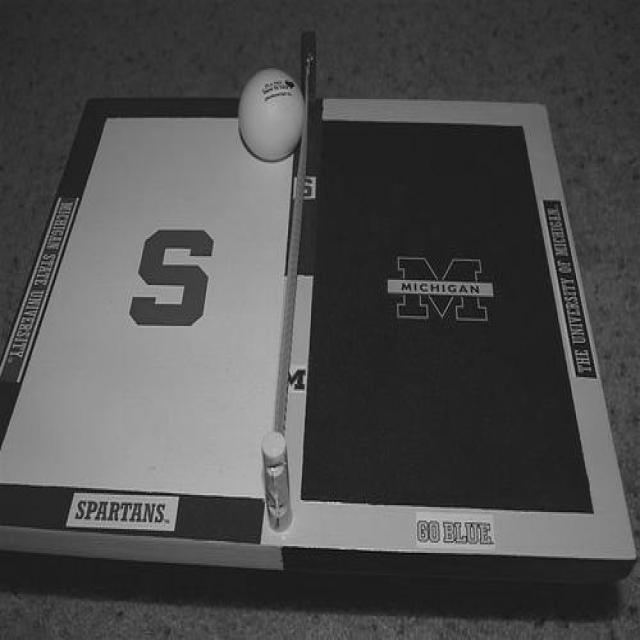ping-pong-ball: (238, 65, 308, 163)
